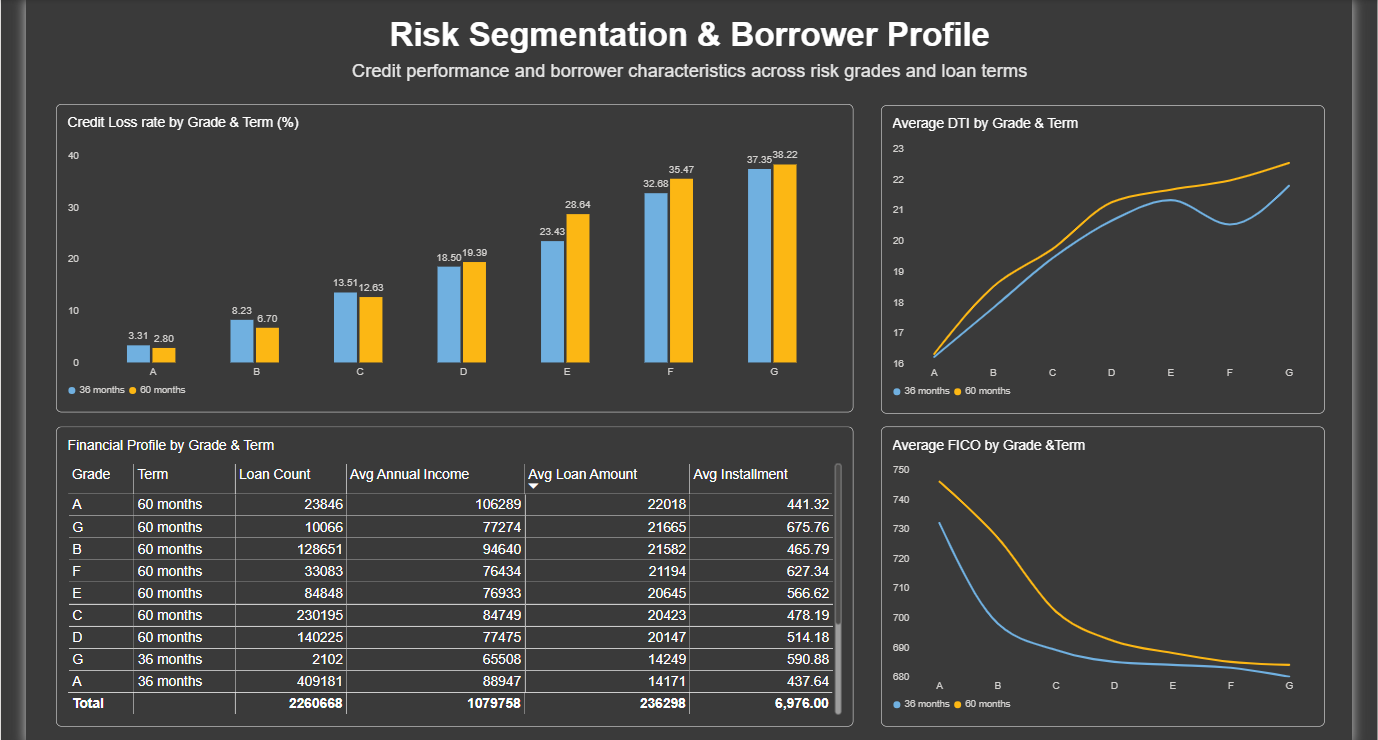

The page's visual inventory and layout, read from the dashboard file:
{"tool":"powerbi","page":{"name":"Risk Segmentation and Borrower Profile","canvas":[1920,1080],"ordinal":1},"visuals":[{"type":"clusteredColumnChart","title":"Credit Loss rate by Grade & Term (%)","fields":{"Category":["Grade Term Analysis.grade"],"Series":["Grade Term Analysis.term"],"Y":["Avg(Grade Term Analysis.credit_loss_rate)"]},"box":[44,152,1154,446],"z":0},{"type":"lineChart","title":"Average FICO by Grade &Term","fields":{"Category":["Borrower Credit Profile by Grade and Term.grade"],"Series":["Borrower Credit Profile by Grade and Term.term"],"Y":["Avg(Borrower Credit Profile by Grade and Term.avg_fico_high)"]},"box":[1238,618,642,434],"z":1000},{"type":"lineChart","title":"Average DTI by Grade & Term","fields":{"Category":["Borrower Credit Profile by Grade and Term.grade"],"Series":["Borrower Credit Profile by Grade and Term.term"],"Y":["Avg(Borrower Credit Profile by Grade and Term.avg_dti)"]},"box":[1238,154,642,446],"z":2000},{"type":"tableEx","title":"Financial Profile by Grade & Term","fields":{"Values":["Financial Profile by Grade and Term.grade","Financial Profile by Grade and Term.term","Financial Profile by Grade and Term.loan_count","Sum(Financial Profile by Grade and Term.avg_annual_inc)","Sum(Financial Profile by Grade and Term.avg_loan_amnt)","Sum(Financial Profile by Grade and Term.avg_installment)"]},"box":[44,618,1154,434],"z":3000},{"type":"textbox","box":[410.8,23.5,1100.3,65.1],"z":4000},{"type":"textbox","box":[410,88,1100.3,47.1],"z":5000}]}

Visuals, with their boxes on the page's 1920x1080 design canvas (x1, y1, x2, y2). These are canvas units, not pixel positions in the 1378x740 screenshot, which may show the page scaled, cropped or inside an application window:
"Credit Loss rate by Grade & Term (%)" clusteredColumnChart: (44, 152, 1198, 598)
"Average FICO by Grade &Term" lineChart: (1238, 618, 1880, 1052)
"Average DTI by Grade & Term" lineChart: (1238, 154, 1880, 600)
"Financial Profile by Grade & Term" tableEx: (44, 618, 1198, 1052)
textbox: (411, 24, 1511, 89)
textbox: (410, 88, 1510, 135)
